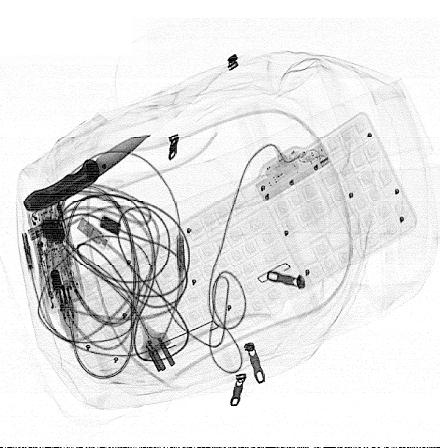Knife: (23, 133, 152, 211)
